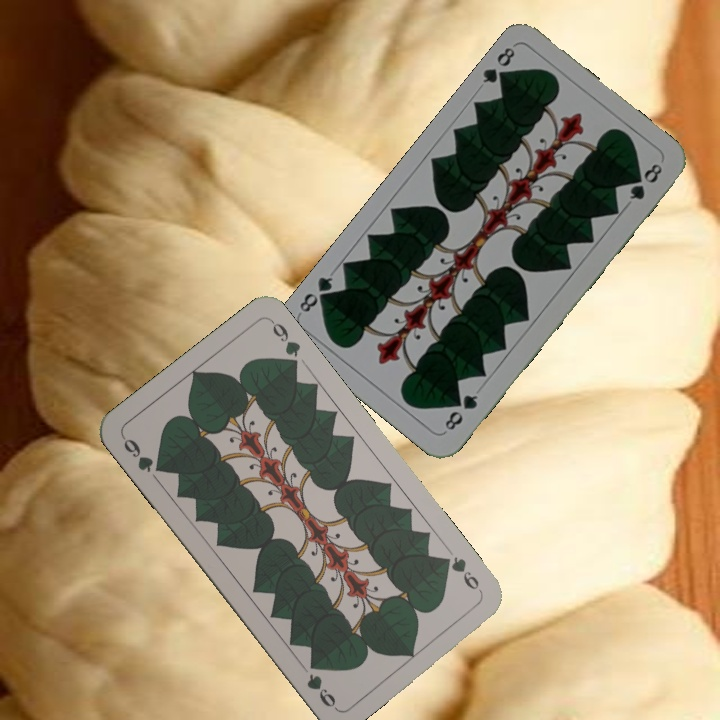G8: (440, 390, 481, 435), (478, 43, 518, 89)
G9: (437, 552, 486, 596), (118, 432, 167, 475)
